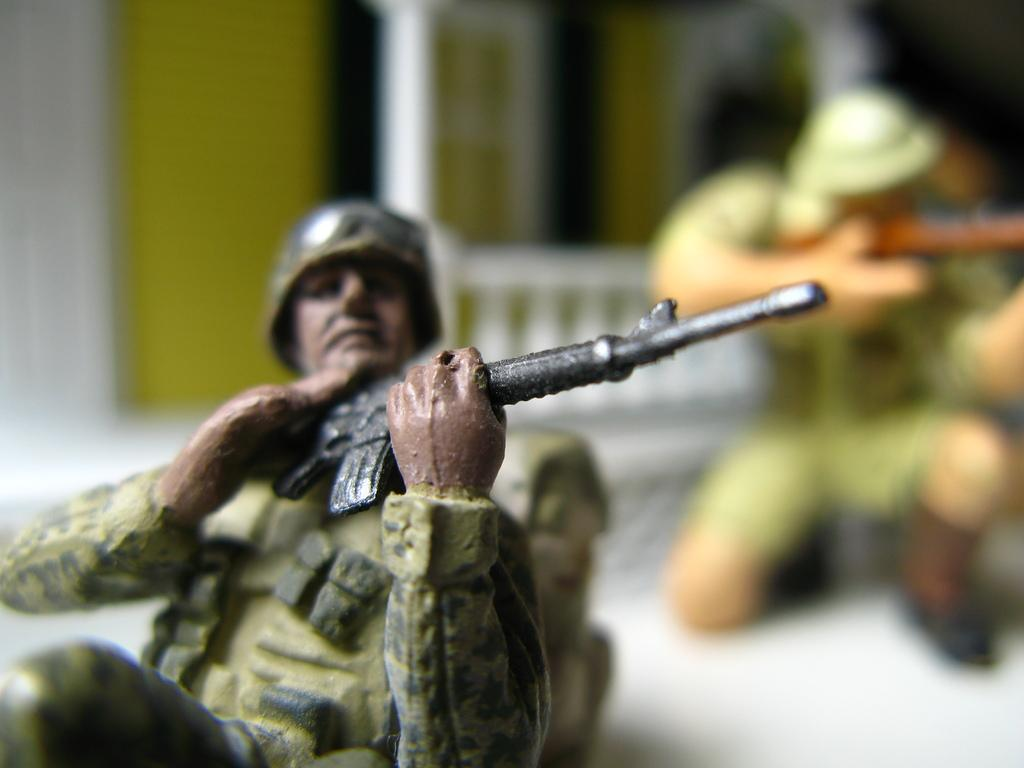Rifle: (269, 298, 827, 504)
